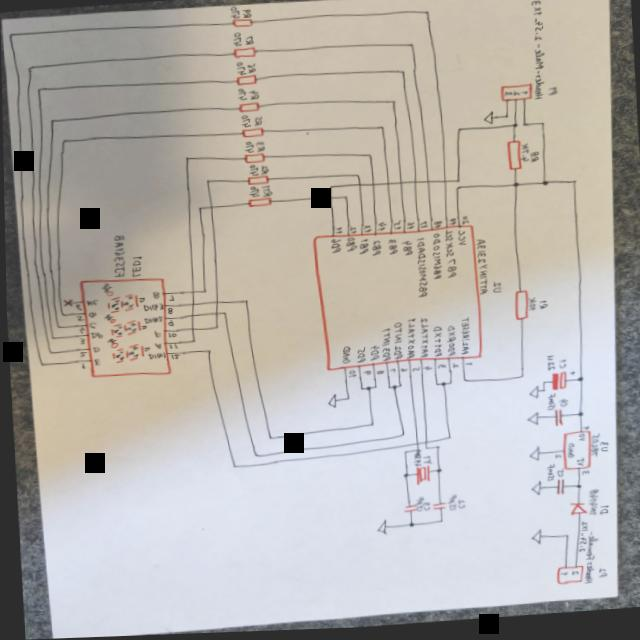capacitor: (548, 372, 575, 394), (550, 411, 563, 430), (552, 482, 565, 498), (400, 505, 416, 516), (429, 503, 444, 513)
crossover: (410, 180, 418, 187), (187, 312, 195, 319), (396, 181, 404, 188), (383, 182, 391, 188), (355, 183, 362, 189), (188, 301, 195, 307), (207, 205, 213, 211), (212, 300, 218, 306), (188, 326, 194, 332), (188, 289, 194, 295), (369, 183, 375, 188), (420, 442, 427, 446), (327, 197, 333, 201), (424, 182, 430, 186), (441, 181, 447, 185), (212, 312, 218, 316), (412, 443, 418, 447)
diode: (566, 504, 585, 519)
ground: (372, 520, 386, 537), (527, 483, 540, 500), (525, 448, 538, 464), (527, 531, 540, 547), (524, 415, 537, 429), (481, 113, 493, 128), (527, 388, 538, 402), (325, 395, 335, 409)
junction: (574, 379, 583, 387), (573, 486, 581, 494), (539, 182, 548, 189), (574, 414, 583, 421), (407, 43, 416, 50), (188, 338, 196, 345), (378, 126, 386, 133), (240, 299, 248, 306), (35, 85, 43, 92), (399, 474, 408, 480), (432, 470, 441, 476), (454, 129, 463, 135), (398, 71, 407, 77), (423, 11, 432, 17), (388, 101, 397, 107), (49, 117, 56, 124), (203, 349, 211, 355), (404, 524, 412, 530), (511, 185, 519, 191), (229, 464, 237, 470), (59, 138, 67, 144), (570, 182, 578, 188), (520, 125, 528, 131), (7, 31, 15, 37), (516, 376, 524, 382), (26, 64, 34, 70), (453, 181, 461, 187), (560, 536, 568, 542), (199, 288, 207, 294), (453, 188, 461, 194), (511, 125, 518, 131), (183, 156, 190, 162), (459, 380, 466, 386), (365, 154, 372, 160), (342, 195, 348, 202), (354, 174, 361, 180), (438, 383, 445, 389), (204, 179, 210, 185), (367, 423, 373, 429), (265, 436, 272, 441), (363, 387, 370, 392), (539, 124, 545, 129), (436, 521, 442, 526), (444, 437, 450, 442), (398, 434, 404, 439), (327, 186, 333, 191), (343, 398, 349, 403), (432, 384, 438, 389), (539, 382, 545, 387), (389, 387, 396, 391), (539, 391, 544, 396), (212, 326, 218, 330), (195, 207, 201, 211), (446, 383, 452, 387), (220, 311, 226, 315), (400, 452, 406, 456), (433, 447, 439, 451), (503, 117, 509, 121), (58, 312, 64, 316), (38, 361, 42, 366), (47, 350, 52, 354), (357, 388, 362, 392), (385, 387, 390, 391), (251, 454, 256, 458), (422, 448, 427, 452), (413, 450, 418, 454), (48, 335, 53, 339), (54, 324, 59, 328), (371, 386, 375, 390), (396, 385, 400, 389)
resistor: (504, 143, 522, 174), (511, 292, 527, 323), (231, 47, 257, 60), (234, 74, 258, 88), (241, 153, 265, 166), (236, 102, 260, 115), (240, 128, 264, 140), (248, 198, 272, 209), (231, 18, 254, 29), (246, 175, 269, 186)
terminal: (498, 86, 534, 105), (552, 567, 582, 588)
text: (527, 3, 548, 103), (578, 534, 599, 587), (412, 236, 428, 300), (442, 231, 457, 280), (475, 241, 488, 297), (428, 234, 443, 282), (110, 234, 126, 277), (402, 320, 417, 360), (415, 320, 430, 360), (389, 323, 404, 361), (377, 328, 392, 362), (456, 319, 469, 357), (573, 524, 587, 556), (430, 327, 442, 359), (443, 327, 455, 358), (584, 492, 597, 519), (586, 436, 600, 460), (128, 255, 142, 277), (327, 237, 342, 256), (399, 240, 413, 259), (338, 348, 352, 366), (443, 495, 457, 513), (352, 349, 366, 366), (385, 239, 398, 257), (369, 240, 382, 258), (366, 346, 379, 364), (356, 239, 369, 257), (543, 397, 556, 415), (343, 238, 357, 254), (141, 302, 163, 312), (542, 466, 554, 484), (518, 146, 529, 165), (143, 315, 163, 325), (455, 232, 467, 248), (412, 497, 423, 514), (410, 451, 421, 468), (146, 350, 164, 360), (544, 358, 555, 374), (235, 62, 246, 76), (232, 33, 242, 48), (565, 445, 574, 461), (260, 186, 272, 198), (247, 186, 259, 198), (240, 115, 250, 129), (237, 88, 247, 102), (593, 571, 605, 582), (248, 90, 260, 101), (230, 7, 240, 20), (528, 153, 538, 166), (88, 330, 102, 339), (526, 300, 535, 314), (248, 165, 258, 177), (243, 142, 253, 154), (490, 284, 500, 296), (595, 508, 607, 518), (546, 89, 558, 99), (84, 298, 98, 306), (259, 165, 269, 176), (254, 142, 264, 153), (252, 116, 262, 127), (246, 64, 256, 75), (375, 223, 385, 234), (420, 456, 430, 467), (597, 445, 607, 456), (555, 402, 567, 411), (459, 218, 469, 228), (244, 36, 254, 46), (573, 460, 583, 470), (556, 362, 566, 372), (537, 303, 547, 313), (454, 500, 463, 511), (149, 291, 159, 300), (241, 10, 251, 19), (553, 471, 562, 481), (392, 221, 400, 232), (346, 370, 355, 379), (362, 226, 371, 235), (432, 223, 442, 231), (86, 310, 96, 318), (404, 224, 413, 232), (418, 223, 427, 231), (449, 364, 458, 372), (152, 330, 161, 338), (348, 226, 356, 235), (446, 220, 455, 228), (92, 357, 100, 366), (420, 504, 428, 513), (168, 353, 178, 360), (165, 332, 175, 339), (462, 363, 472, 370), (167, 343, 177, 350), (434, 365, 444, 372), (74, 314, 84, 321), (87, 321, 97, 328), (152, 342, 160, 350), (334, 228, 342, 236), (165, 319, 173, 327), (576, 436, 584, 444), (421, 367, 431, 373), (398, 369, 408, 375), (373, 371, 383, 377), (578, 473, 588, 479), (166, 307, 173, 315), (167, 295, 175, 302), (73, 303, 81, 310), (552, 455, 560, 462), (360, 371, 369, 377), (90, 346, 99, 352), (503, 94, 512, 100), (77, 337, 84, 344), (78, 350, 86, 356), (410, 368, 418, 374), (78, 325, 84, 333), (512, 93, 520, 99), (568, 573, 576, 579), (556, 574, 565, 579), (78, 362, 84, 369), (520, 93, 528, 98), (579, 429, 588, 433), (387, 370, 394, 374)
